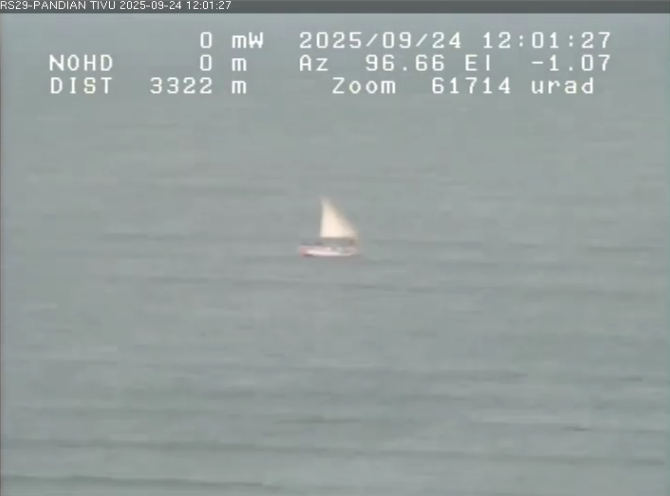SAIL_BOAT: (280, 191, 381, 276)
